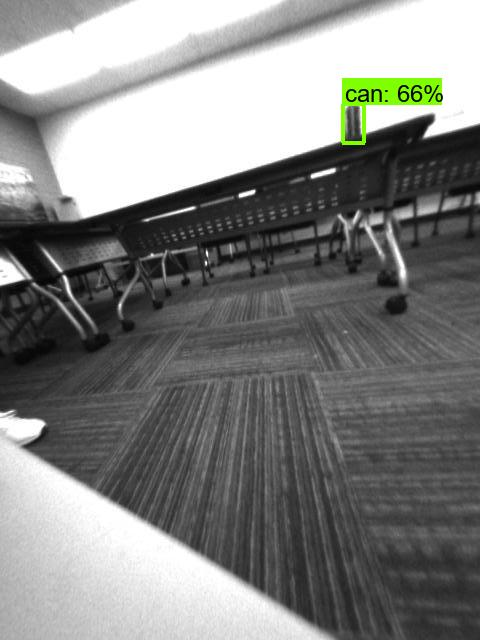can: (340, 100, 365, 140)
